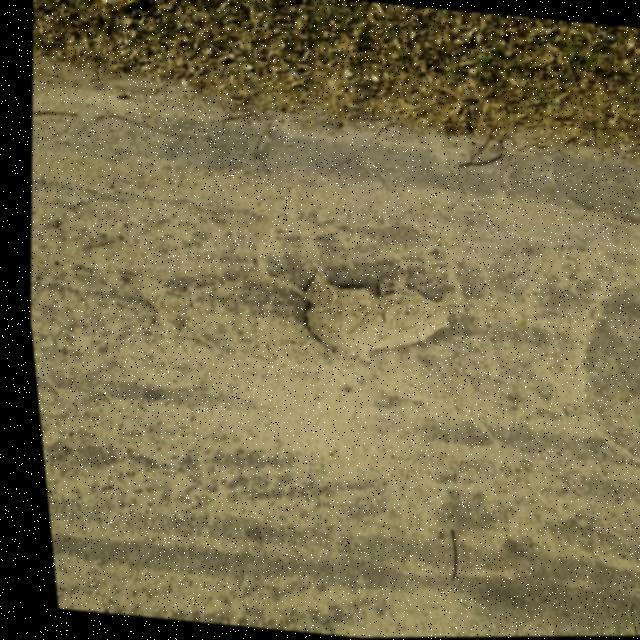pothole: (269, 258, 462, 374)
